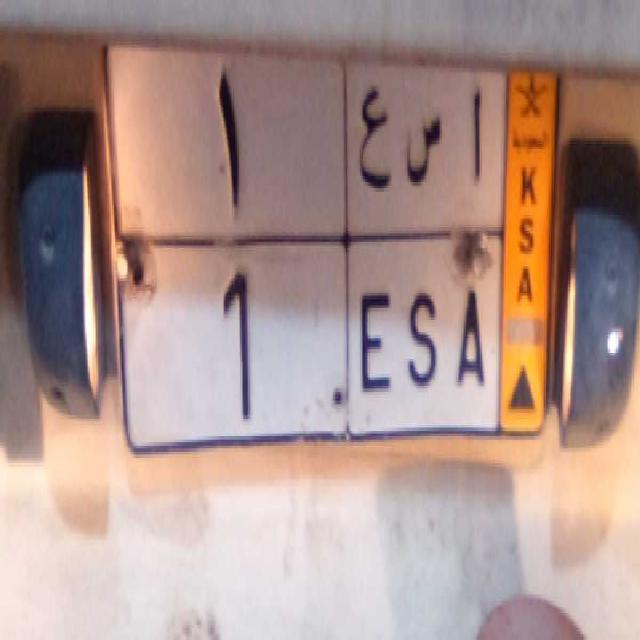license_plate: (118, 236, 502, 440)
